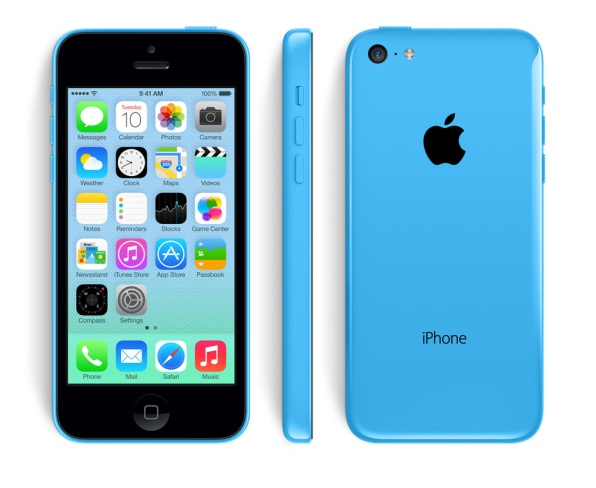apple: (414, 104, 481, 187)
